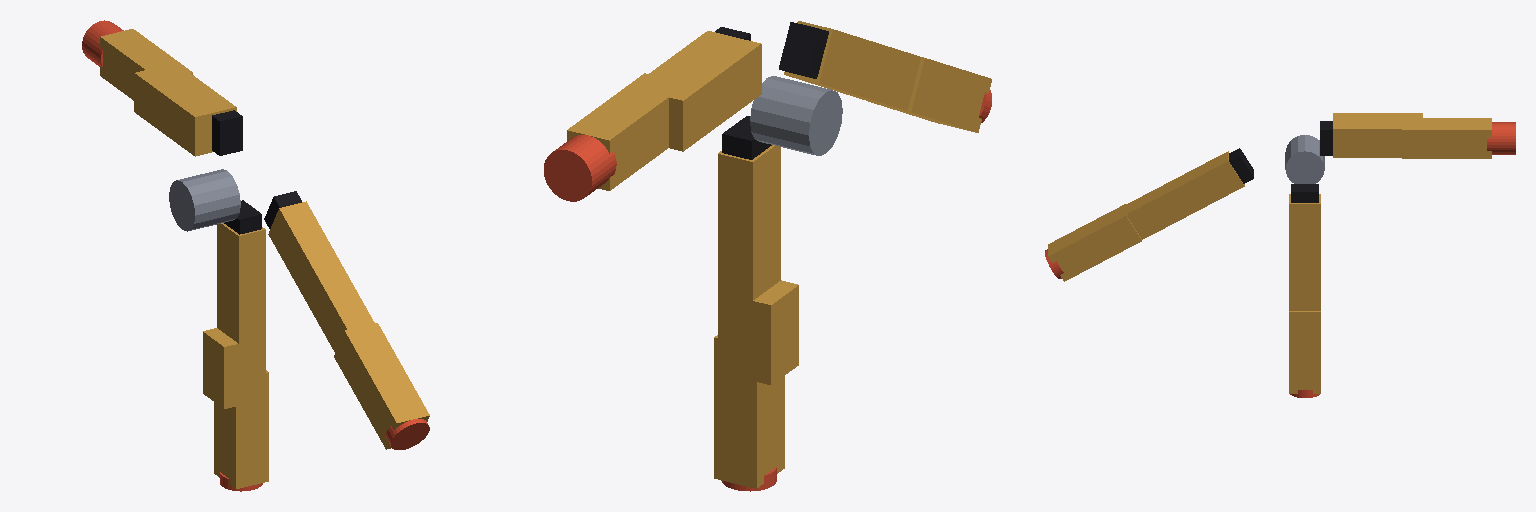
robot.urdf — g0027_c05:
<robot name="g0027_c05">
  <link name="palm">
    <visual name="palm_palm1">
      <origin xyz="0 0 0" rpy="0 0 0" />
      <geometry>
        <mesh filename="palm_palm1.obj" />
      </geometry>
      <material name="palm_palm1_mat">
        <color rgba="0.55 0.57 0.62 1" />
      </material>
    </visual>
    <collision>
      <origin xyz="0 0 0" rpy="0 0 0" />
      <geometry>
        <mesh filename="palm_palm1.obj" />
      </geometry>
    </collision>
    <visual name="palm_mount2">
      <origin xyz="0 0 0" rpy="0 0 0" />
      <geometry>
        <mesh filename="palm_mount2.obj" />
      </geometry>
      <material name="palm_mount2_mat">
        <color rgba="0.55 0.57 0.62 1" />
      </material>
    </visual>
    <collision>
      <origin xyz="0 0 0" rpy="0 0 0" />
      <geometry>
        <mesh filename="palm_mount2.obj" />
      </geometry>
    </collision>
    <visual name="palm_motor3">
      <origin xyz="0 -0.0735048095 0.00375" rpy="1.57079633 -1.04719755 -1.57079633" />
      <geometry>
        <box size="0.029 0.034 0.02" />
      </geometry>
      <material name="palm_motor3_mat">
        <color rgba="0.15 0.15 0.17 1" />
      </material>
    </visual>
    <collision>
      <origin xyz="0 -0.0735048095 0.00375" rpy="1.57079633 -1.04719755 -1.57079633" />
      <geometry>
        <box size="0.029 0.034 0.02" />
      </geometry>
    </collision>
    <visual name="palm_motor4">
      <origin xyz="0 -9.18485099e-19 -0.0325" rpy="1.57079633 1.2246468e-16 -1.57079633" />
      <geometry>
        <box size="0.029 0.034 0.02" />
      </geometry>
      <material name="palm_motor4_mat">
        <color rgba="0.15 0.15 0.17 1" />
      </material>
    </visual>
    <collision>
      <origin xyz="0 -9.18485099e-19 -0.0325" rpy="1.57079633 1.2246468e-16 -1.57079633" />
      <geometry>
        <box size="0.029 0.034 0.02" />
      </geometry>
    </collision>
    <visual name="palm_motor5">
      <origin xyz="0 0.0325 0.04" rpy="-3.14159265 1.57079633 0" />
      <geometry>
        <box size="0.029 0.034 0.02" />
      </geometry>
      <material name="palm_motor5_mat">
        <color rgba="0.15 0.15 0.17 1" />
      </material>
    </visual>
    <collision>
      <origin xyz="0 0.0325 0.04" rpy="-3.14159265 1.57079633 0" />
      <geometry>
        <box size="0.029 0.034 0.02" />
      </geometry>
    </collision>
    <inertial>
      <origin xyz="2.41214625e-19 -0.0140680533 0.00357941711" rpy="1.57079633 -0.32746714 1.57079633" />
      <mass value="0.448086152" />
      <inertia ixx="0.000297025667" ixy="0" ixz="0" iyy="0.000625585116" iyz="0" izz="0.000879594512" />
    </inertial>
  </link>
  <link name="f0_link0">
    <visual name="f0_link0_link1">
      <origin xyz="0.02375 0 -6.9388939e-18" rpy="0 -3.98552134e-18 0" />
      <geometry>
        <box size="0.0715 0.024 0.033" />
      </geometry>
      <material name="f0_link0_link1_mat">
        <color rgba="0.80 0.62 0.30 1" />
      </material>
    </visual>
    <collision>
      <origin xyz="0.02375 0 -6.9388939e-18" rpy="0 -3.98552134e-18 0" />
      <geometry>
        <box size="0.0715 0.024 0.033" />
      </geometry>
    </collision>
    <inertial>
      <origin xyz="0.02375 0 0" rpy="0 0 0" />
      <mass value="0.099099" />
      <inertia ixx="1.37499863e-05" ixy="0" ixz="0" iyy="5.12114728e-05" iyz="0" izz="4.69749906e-05" />
    </inertial>
  </link>
  <link name="f0_link1">
    <visual name="f0_link1_link1">
      <origin xyz="0.03375 0 -6.9388939e-18" rpy="0 -3.98552134e-18 0" />
      <geometry>
        <box size="0.0915 0.024 0.033" />
      </geometry>
      <material name="f0_link1_link1_mat">
        <color rgba="0.80 0.62 0.30 1" />
      </material>
    </visual>
    <collision>
      <origin xyz="0.03375 0 -6.9388939e-18" rpy="0 -3.98552134e-18 0" />
      <geometry>
        <box size="0.0915 0.024 0.033" />
      </geometry>
    </collision>
    <inertial>
      <origin xyz="0.03375 0 0" rpy="0 0 0" />
      <mass value="0.126819" />
      <inertia ixx="1.75961363e-05" ixy="0" ixz="0" iyy="9.99888553e-05" iyz="0" izz="9.45673431e-05" />
    </inertial>
  </link>
  <link name="f0_link2">
    <visual name="f0_link2_link1">
      <origin xyz="0.03375 0 -6.9388939e-18" rpy="0 -3.98552134e-18 0" />
      <geometry>
        <box size="0.0915 0.029 0.033" />
      </geometry>
      <material name="f0_link2_link1_mat">
        <color rgba="0.80 0.62 0.30 1" />
      </material>
    </visual>
    <collision>
      <origin xyz="0.03375 0 -6.9388939e-18" rpy="0 -3.98552134e-18 0" />
      <geometry>
        <box size="0.0915 0.029 0.033" />
      </geometry>
    </collision>
    <inertial>
      <origin xyz="0.03375 0 0" rpy="0 0 0" />
      <mass value="0.153239625" />
      <inertia ixx="2.46460397e-05" ixy="0" ixz="0" iyy="0.000120819867" iyz="0" izz="0.000117652915" />
    </inertial>
  </link>
  <link name="f0_link3">
    <visual name="f0_link3_link1">
      <origin xyz="0.009 0 -1.73472348e-17" rpy="-1.57079633 -0 -1.57079633" />
      <geometry>
        <cylinder radius="0.0165" length="0.009" />
      </geometry>
      <material name="f0_link3_link1_mat">
        <color rgba="0.85 0.35 0.25 1" />
      </material>
    </visual>
    <collision>
      <origin xyz="0.009 0 -1.73472348e-17" rpy="-1.57079633 -0 -1.57079633" />
      <geometry>
        <cylinder radius="0.0165" length="0.009" />
      </geometry>
    </collision>
    <inertial>
      <origin xyz="0.009 0 0" rpy="0 0 0" />
      <mass value="0.046399949" />
      <inertia ixx="5.41970115e-06" ixy="0" ixz="0" iyy="7.09430898e-06" iyz="0" izz="7.09430898e-06" />
    </inertial>
  </link>
  <link name="f1_link0">
    <visual name="f1_link0_link1">
      <origin xyz="0.04375 0 0" rpy="0 -0 0" />
      <geometry>
        <box size="0.1115 0.024 0.033" />
      </geometry>
      <material name="f1_link0_link1_mat">
        <color rgba="0.80 0.62 0.30 1" />
      </material>
    </visual>
    <collision>
      <origin xyz="0.04375 0 0" rpy="0 -0 0" />
      <geometry>
        <box size="0.1115 0.024 0.033" />
      </geometry>
    </collision>
    <inertial>
      <origin xyz="0.04375 0 0" rpy="0 0 0" />
      <mass value="0.154539" />
      <inertia ixx="2.14422863e-05" ixy="0" ixz="0" iyy="0.000174130038" iyz="0" izz="0.000167523496" />
    </inertial>
  </link>
  <link name="f1_link1">
    <visual name="f1_link1_link1">
      <origin xyz="0.014 -0.00625 -7.70371978e-34" rpy="0 -0 0" />
      <geometry>
        <box size="0.052 0.0365 0.033" />
      </geometry>
      <material name="f1_link1_link1_mat">
        <color rgba="0.80 0.62 0.30 1" />
      </material>
    </visual>
    <collision>
      <origin xyz="0.014 -0.00625 -7.70371978e-34" rpy="0 -0 0" />
      <geometry>
        <box size="0.052 0.0365 0.033" />
      </geometry>
    </collision>
    <inertial>
      <origin xyz="0.014 -0.00625 0" rpy="0 0 0" />
      <mass value="0.1096095" />
      <inertia ixx="2.21160002e-05" ixy="0" ixz="0" iyy="3.46457361e-05" iyz="0" izz="3.6867612e-05" />
    </inertial>
  </link>
  <link name="f1_link2">
    <visual name="f1_link2_link1">
      <origin xyz="0.03375 0 7.70371978e-34" rpy="0 -0 0" />
      <geometry>
        <box size="0.0915 0.029 0.033" />
      </geometry>
      <material name="f1_link2_link1_mat">
        <color rgba="0.80 0.62 0.30 1" />
      </material>
    </visual>
    <collision>
      <origin xyz="0.03375 0 7.70371978e-34" rpy="0 -0 0" />
      <geometry>
        <box size="0.0915 0.029 0.033" />
      </geometry>
    </collision>
    <inertial>
      <origin xyz="0.03375 0 0" rpy="0 0 0" />
      <mass value="0.153239625" />
      <inertia ixx="2.46460397e-05" ixy="0" ixz="0" iyy="0.000120819867" iyz="0" izz="0.000117652915" />
    </inertial>
  </link>
  <link name="f1_link3">
    <visual name="f1_link3_link1">
      <origin xyz="0.009 0 -7.70371978e-34" rpy="-1.57079633 -0 -1.57079633" />
      <geometry>
        <cylinder radius="0.0165" length="0.009" />
      </geometry>
      <material name="f1_link3_link1_mat">
        <color rgba="0.85 0.35 0.25 1" />
      </material>
    </visual>
    <collision>
      <origin xyz="0.009 0 -7.70371978e-34" rpy="-1.57079633 -0 -1.57079633" />
      <geometry>
        <cylinder radius="0.0165" length="0.009" />
      </geometry>
    </collision>
    <inertial>
      <origin xyz="0.009 0 0" rpy="0 0 0" />
      <mass value="0.046399949" />
      <inertia ixx="5.41970115e-06" ixy="0" ixz="0" iyy="7.09430898e-06" iyz="0" izz="7.09430898e-06" />
    </inertial>
  </link>
  <link name="f2_link0">
    <visual name="f2_link0_link1">
      <origin xyz="0.014 -0.00625 0" rpy="0 -0 0" />
      <geometry>
        <box size="0.052 0.0365 0.033" />
      </geometry>
      <material name="f2_link0_link1_mat">
        <color rgba="0.80 0.62 0.30 1" />
      </material>
    </visual>
    <collision>
      <origin xyz="0.014 -0.00625 0" rpy="0 -0 0" />
      <geometry>
        <box size="0.052 0.0365 0.033" />
      </geometry>
    </collision>
    <inertial>
      <origin xyz="0.014 -0.00625 0" rpy="0 0 0" />
      <mass value="0.1096095" />
      <inertia ixx="2.21160002e-05" ixy="0" ixz="0" iyy="3.46457361e-05" iyz="0" izz="3.6867612e-05" />
    </inertial>
  </link>
  <link name="f2_link1">
    <visual name="f2_link1_link1">
      <origin xyz="0.019 -0.00625 0" rpy="0 -0 0" />
      <geometry>
        <box size="0.062 0.0365 0.033" />
      </geometry>
      <material name="f2_link1_link1_mat">
        <color rgba="0.80 0.62 0.30 1" />
      </material>
    </visual>
    <collision>
      <origin xyz="0.019 -0.00625 0" rpy="0 -0 0" />
      <geometry>
        <box size="0.062 0.0365 0.033" />
      </geometry>
    </collision>
    <inertial>
      <origin xyz="0.019 -0.00625 0" rpy="0 0 0" />
      <mass value="0.13068825" />
      <inertia ixx="2.63690771e-05" ixy="0" ixz="0" iyy="5.37237614e-05" iyz="0" izz="5.63729212e-05" />
    </inertial>
  </link>
  <link name="f2_link2">
    <visual name="f2_link2_link1">
      <origin xyz="0.03375 0 0" rpy="0 -0 0" />
      <geometry>
        <box size="0.0915 0.029 0.033" />
      </geometry>
      <material name="f2_link2_link1_mat">
        <color rgba="0.80 0.62 0.30 1" />
      </material>
    </visual>
    <collision>
      <origin xyz="0.03375 0 0" rpy="0 -0 0" />
      <geometry>
        <box size="0.0915 0.029 0.033" />
      </geometry>
    </collision>
    <inertial>
      <origin xyz="0.03375 0 0" rpy="0 0 0" />
      <mass value="0.153239625" />
      <inertia ixx="2.46460397e-05" ixy="0" ixz="0" iyy="0.000120819867" iyz="0" izz="0.000117652915" />
    </inertial>
  </link>
  <link name="f2_link3">
    <visual name="f2_link3_link1">
      <origin xyz="0.019 0 0" rpy="-1.57079633 -0 -1.57079633" />
      <geometry>
        <cylinder radius="0.0165" length="0.029" />
      </geometry>
      <material name="f2_link3_link1_mat">
        <color rgba="0.85 0.35 0.25 1" />
      </material>
    </visual>
    <collision>
      <origin xyz="0.019 0 0" rpy="-1.57079633 -0 -1.57079633" />
      <geometry>
        <cylinder radius="0.0165" length="0.029" />
      </geometry>
    </collision>
    <inertial>
      <origin xyz="0.019 0 0" rpy="0 0 0" />
      <mass value="0.0763354" />
      <inertia ixx="9.49466441e-06" ixy="0" ixz="0" iyy="2.24143997e-05" iyz="0" izz="2.24143997e-05" />
    </inertial>
  </link>
  <joint name="f0_j0" type="revolute">
    <parent link="palm" />
    <child link="f0_link0" />
    <origin xyz="0 -0.08 0" rpy="0 0.523598776 -1.57079633" />
    <axis xyz="0 0 1" />
    <limit effort="0.5" lower="-0.523598776" upper="1.57079633" velocity="5" />
    <dynamics damping="0.0775033" friction="0" />
  </joint>
  <joint name="f0_j1" type="revolute">
    <parent link="f0_link0" />
    <child link="f0_link1" />
    <origin xyz="0.05 0 0" rpy="0 0 0" />
    <axis xyz="0 0 1" />
    <limit effort="0.5" lower="-0.523598776" upper="1.57079633" velocity="5" />
    <dynamics damping="0.0775033" friction="0" />
  </joint>
  <joint name="f0_j2" type="revolute">
    <parent link="f0_link1" />
    <child link="f0_link2" />
    <origin xyz="0.07 0 0" rpy="0 0 0" />
    <axis xyz="0 0 1" />
    <limit effort="0.5" lower="-0.523598776" upper="1.57079633" velocity="5" />
    <dynamics damping="0.0775033" friction="0" />
  </joint>
  <joint name="f0_j3" type="revolute">
    <parent link="f0_link2" />
    <child link="f0_link3" />
    <origin xyz="0.07 0 0" rpy="0 0 0" />
    <axis xyz="0 1 6.123234e-17" />
    <limit effort="0.5" lower="-0.523598776" upper="0.523598776" velocity="5" />
    <dynamics damping="0.0775033" friction="0" />
  </joint>
  <joint name="f1_j0" type="revolute">
    <parent link="palm" />
    <child link="f1_link0" />
    <origin xyz="0 0 -0.04" rpy="1.57079633 1.57079633 0" />
    <axis xyz="0 0 1" />
    <limit effort="0.5" lower="-0.523598776" upper="1.57079633" velocity="5" />
    <dynamics damping="0.0775033" friction="0" />
  </joint>
  <joint name="f1_j1" type="revolute">
    <parent link="f1_link0" />
    <child link="f1_link1" />
    <origin xyz="0.09 0 0" rpy="0 0 0" />
    <axis xyz="0 0 1" />
    <limit effort="0.5" lower="-0.523598776" upper="1.57079633" velocity="5" />
    <dynamics damping="0.0775033" friction="0" />
  </joint>
  <joint name="f1_j2" type="revolute">
    <parent link="f1_link1" />
    <child link="f1_link2" />
    <origin xyz="0.03 0 0" rpy="0 0 0" />
    <axis xyz="0 0 1" />
    <limit effort="0.5" lower="-0.523598776" upper="1.57079633" velocity="5" />
    <dynamics damping="0.0775033" friction="0" />
  </joint>
  <joint name="f1_j3" type="revolute">
    <parent link="f1_link2" />
    <child link="f1_link3" />
    <origin xyz="0.07 0 0" rpy="0 0 0" />
    <axis xyz="0 1 6.123234e-17" />
    <limit effort="0.5" lower="-0.523598776" upper="0.523598776" velocity="5" />
    <dynamics damping="0.0775033" friction="0" />
  </joint>
  <joint name="f2_j0" type="revolute">
    <parent link="palm" />
    <child link="f2_link0" />
    <origin xyz="0 0.04 0.04" rpy="-3.14159265 -6.123234e-17 1.57079633" />
    <axis xyz="0 0 1" />
    <limit effort="0.5" lower="-0.523598776" upper="1.57079633" velocity="5" />
    <dynamics damping="0.0775033" friction="0" />
  </joint>
  <joint name="f2_j1" type="revolute">
    <parent link="f2_link0" />
    <child link="f2_link1" />
    <origin xyz="0.03 0 0" rpy="0 0 0" />
    <axis xyz="0 0 1" />
    <limit effort="0.5" lower="-0.523598776" upper="1.57079633" velocity="5" />
    <dynamics damping="0.0775033" friction="0" />
  </joint>
  <joint name="f2_j2" type="revolute">
    <parent link="f2_link1" />
    <child link="f2_link2" />
    <origin xyz="0.04 0 0" rpy="0 0 0" />
    <axis xyz="0 0 1" />
    <limit effort="0.5" lower="-0.523598776" upper="1.57079633" velocity="5" />
    <dynamics damping="0.0775033" friction="0" />
  </joint>
  <joint name="f2_j3" type="revolute">
    <parent link="f2_link2" />
    <child link="f2_link3" />
    <origin xyz="0.07 0 0" rpy="0 0 0" />
    <axis xyz="0 1 6.123234e-17" />
    <limit effort="0.5" lower="-0.523598776" upper="0.523598776" velocity="5" />
    <dynamics damping="0.0775033" friction="0" />
  </joint>
</robot>

--- Facts derived from the render (not from the file) ---
3 views of the same robot in one strip: view 1: azimuth 30°, elevation 25°; view 2: azimuth 150°, elevation 25°; view 3: azimuth 270°, elevation 25° (orthographic).
Model g0027_c05 with 13 links and 12 joints (12 revolute), rooted at palm, posed every joint at zero.
Visible links, largest first — view 1: palm, f1_link0, f0_link2, f1_link2, f0_link0, f0_link1, f1_link1, f2_link2, f2_link1, f2_link0, f0_link3, f2_link3; view 2: f1_link0, palm, f1_link2, f1_link1, f2_link2, f2_link1, f0_link2, f2_link0, f0_link0, f2_link3, f0_link1; view 3: f2_link2, f0_link2, palm, f1_link0, f1_link2, f0_link1, f0_link0, f2_link0, f2_link1, f2_link3, f1_link1.
Link boxes in pixels (<box>): palm: <box>169,110,301,234</box>; f1_link0: <box>217,223,265,367</box>; f0_link2: <box>334,323,429,449</box>; f1_link2: <box>214,370,268,488</box>; f0_link0: <box>268,201,344,305</box>; f0_link1: <box>299,252,386,352</box>; f1_link1: <box>203,328,265,408</box>; f2_link2: <box>100,29,192,100</box>; f2_link1: <box>134,63,216,141</box>; f2_link0: <box>161,85,236,156</box>; f0_link3: <box>386,419,429,449</box>; f2_link3: <box>82,20,123,66</box>; f1_link0: <box>718,145,780,332</box>; palm: <box>715,22,842,159</box>; f1_link2: <box>714,335,784,488</box>; f1_link1: <box>718,280,798,384</box>; f2_link2: <box>567,73,685,190</box>; f2_link1: <box>630,49,735,151</box>; f0_link2: <box>868,57,991,132</box>; f2_link0: <box>665,31,761,126</box>; f0_link0: <box>784,21,885,99</box>; f2_link3: <box>544,135,616,201</box>; f0_link1: <box>840,46,920,110</box>; f2_link2: <box>1402,118,1491,158</box>; f0_link2: <box>1048,204,1141,281</box>; palm: <box>1229,121,1332,202</box>; f1_link0: <box>1289,194,1320,300</box>; f1_link2: <box>1289,311,1320,393</box>; f0_link1: <box>1108,174,1201,239</box>; f0_link0: <box>1167,151,1244,217</box>; f2_link0: <box>1333,113,1383,157</box>; f2_link1: <box>1362,113,1422,157</box>; f2_link3: <box>1487,122,1515,154</box>; f1_link1: <box>1289,285,1320,310</box>.
Bounding box of the posed robot: 0.0685 × 0.478 × 0.3 m (x, y, z).
1 mesh visuals loaded from 2 distinct referenced files (1 OBJ); not drawn: 1 (reference not matched to a file when rendering).
